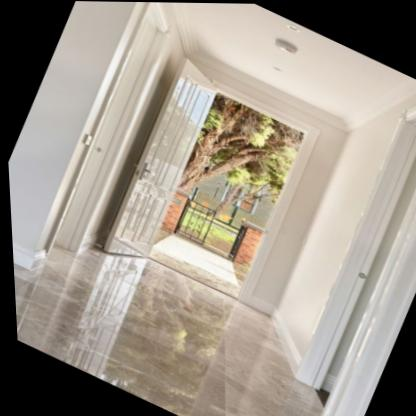Ceramic floor: (11, 247, 320, 416)
